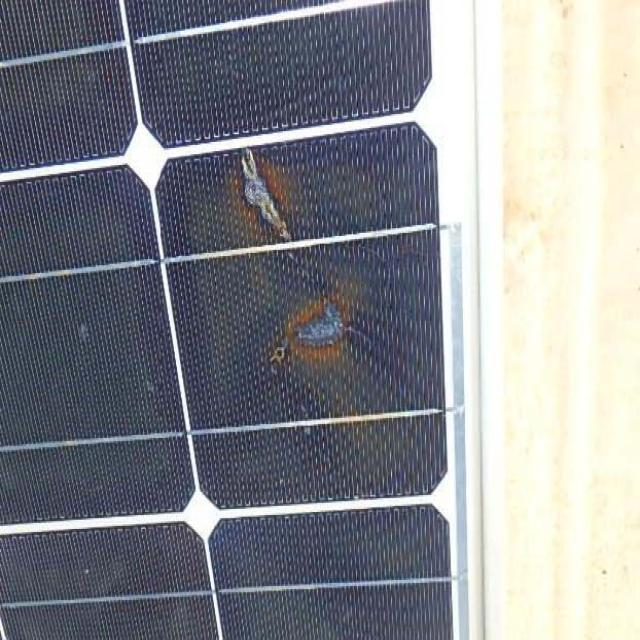Electrical-damage: (221, 148, 336, 254), (261, 290, 377, 381)
